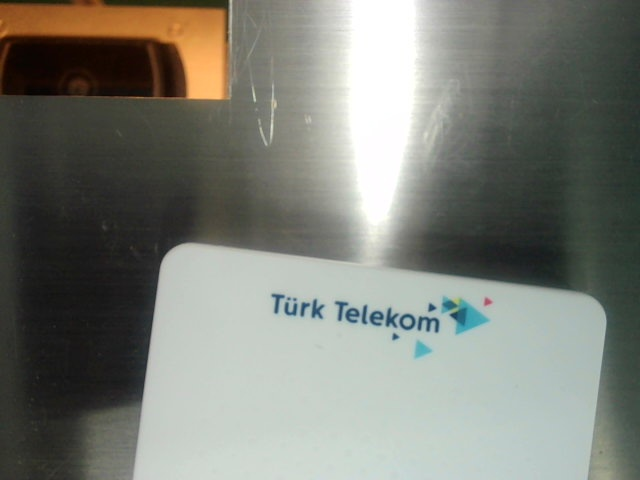AQ_TURKTelekom: (269, 263, 500, 364)
